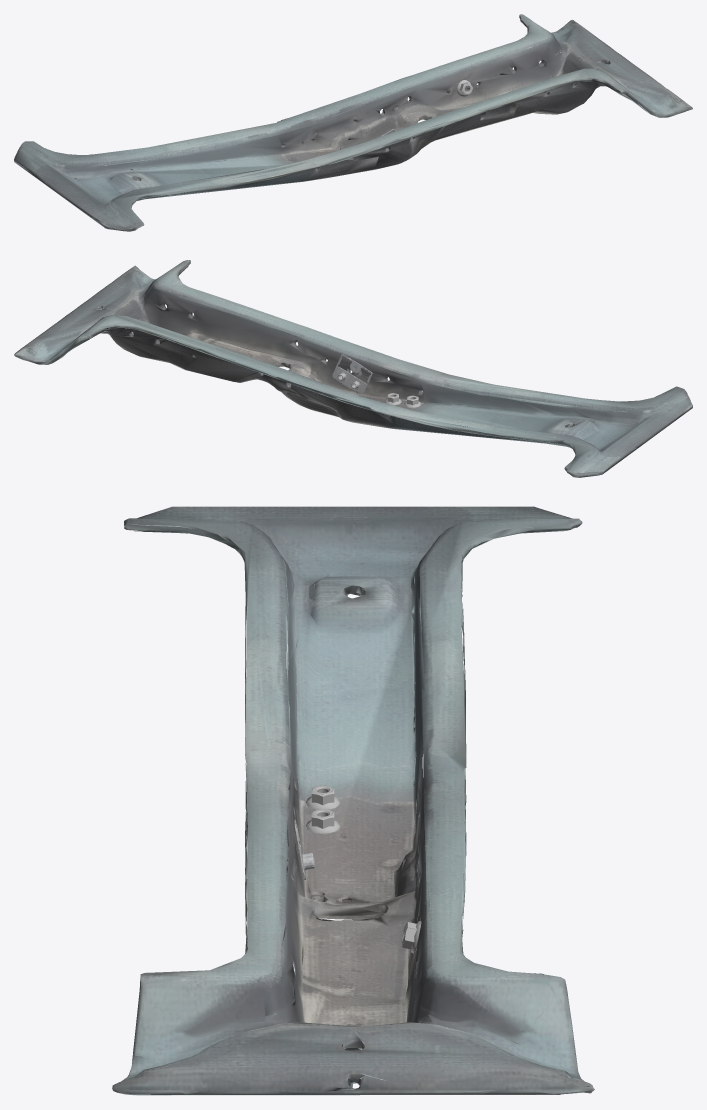
3 views of the same model, one above another, from view 1: azimuth 30°, elevation 25°; view 2: azimuth 150°, elevation 25°; view 3: azimuth 270°, elevation 25° (orthographic). The views are drawn at different scales.
Visible parts, largest first — view 1: PecaPrincipal; view 2: PecaPrincipal, Chapa; view 3: PecaPrincipal.
Boxes of the visible parts, left/top/right/bottom form: PecaPrincipal: left=14, top=14, right=692, bottom=231; PecaPrincipal: left=14, top=260, right=692, bottom=477; Chapa: left=332, top=354, right=372, bottom=394; PecaPrincipal: left=112, top=506, right=594, bottom=1095.
Bounding box in the file's own units: 1.9 × 0.1891 × 0.691.
Materials: 5 (2 with a texture image).
